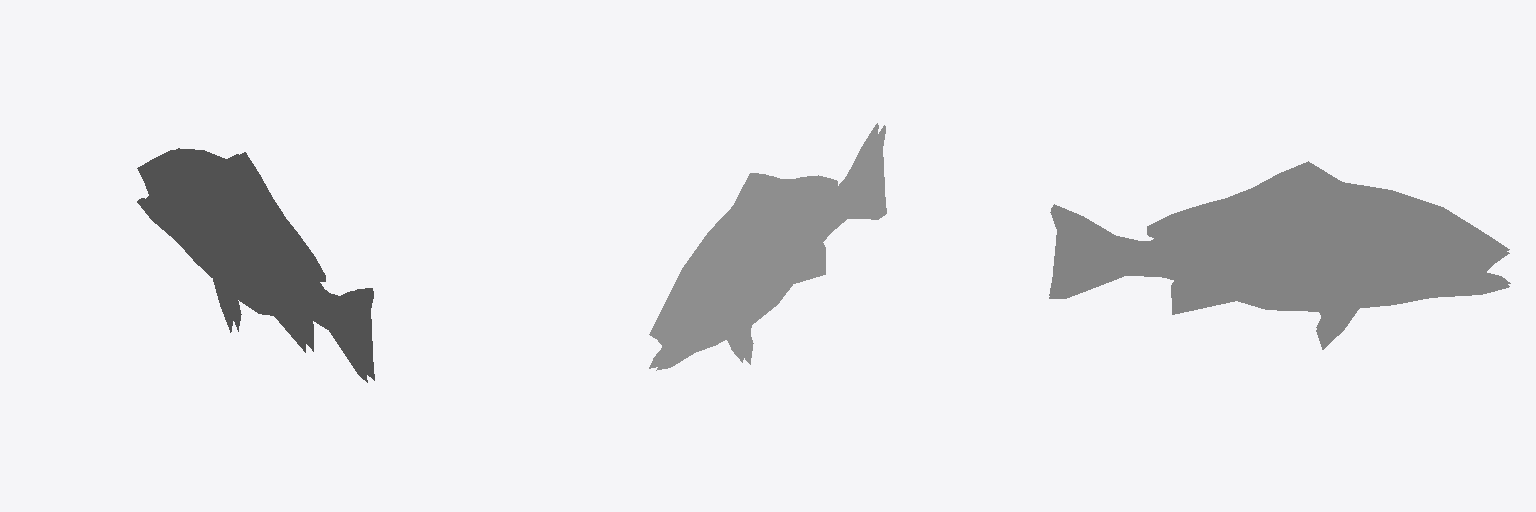
Rendered from city_factory_cerca23.obj.
3 renders of one model, left to right at view 1: azimuth 30°, elevation 25°; view 2: azimuth 150°, elevation 25°; view 3: azimuth 270°, elevation 25°, orthographic.
Visible parts, largest first — view 1: pasted__polySurface11.001; view 2: pasted__polySurface11.001; view 3: pasted__polySurface11.001.
Part boxes in pixels (left/top/right/bottom): pasted__polySurface11.001: left=137, top=148, right=374, bottom=382; pasted__polySurface11.001: left=649, top=123, right=886, bottom=370; pasted__polySurface11.001: left=1049, top=161, right=1510, bottom=349.
Size of the model in its own units: 0.261 by 6.26 by 14.13.